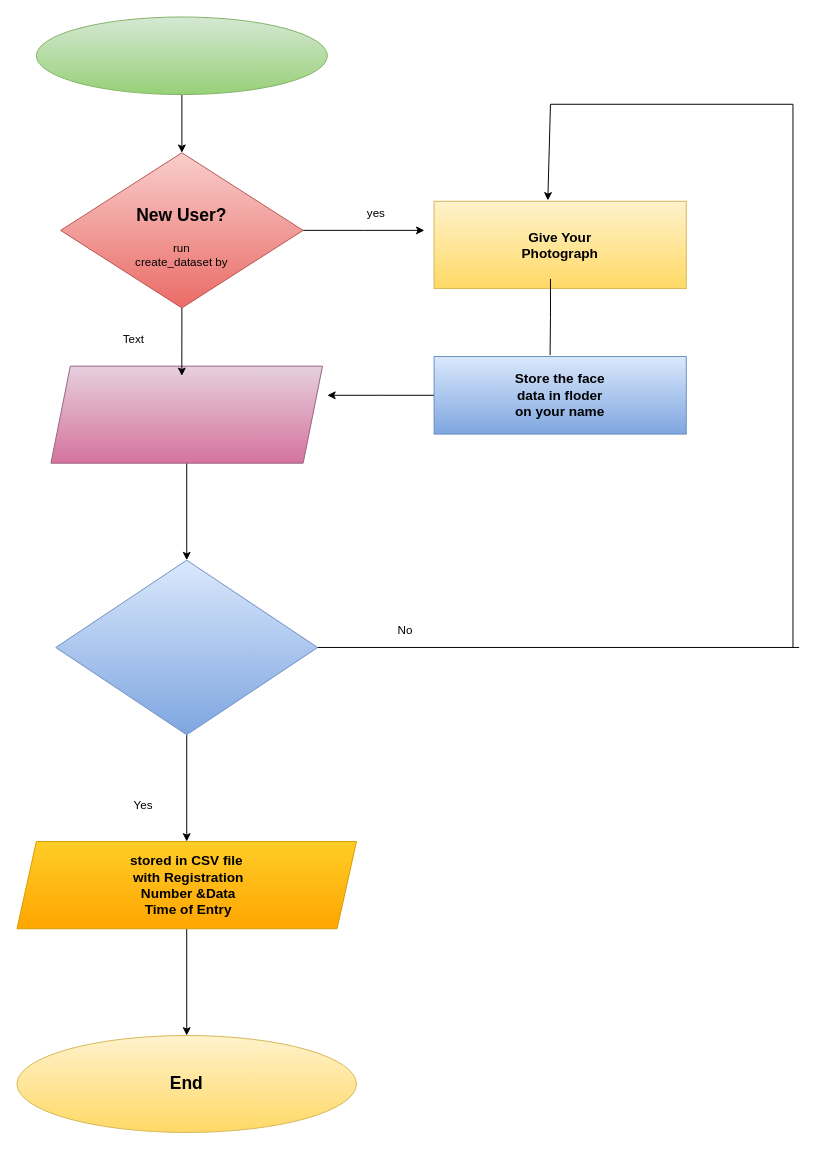
Image size: 818x1149. Some labels were removed from this diagram. The shapes that lost their labels are listed below. From the top down, each one's centre as x and y in pixels, then its label:
point 181,55: Start
point 186,414: Recognize the Face
point 186,647: Face Recognized
